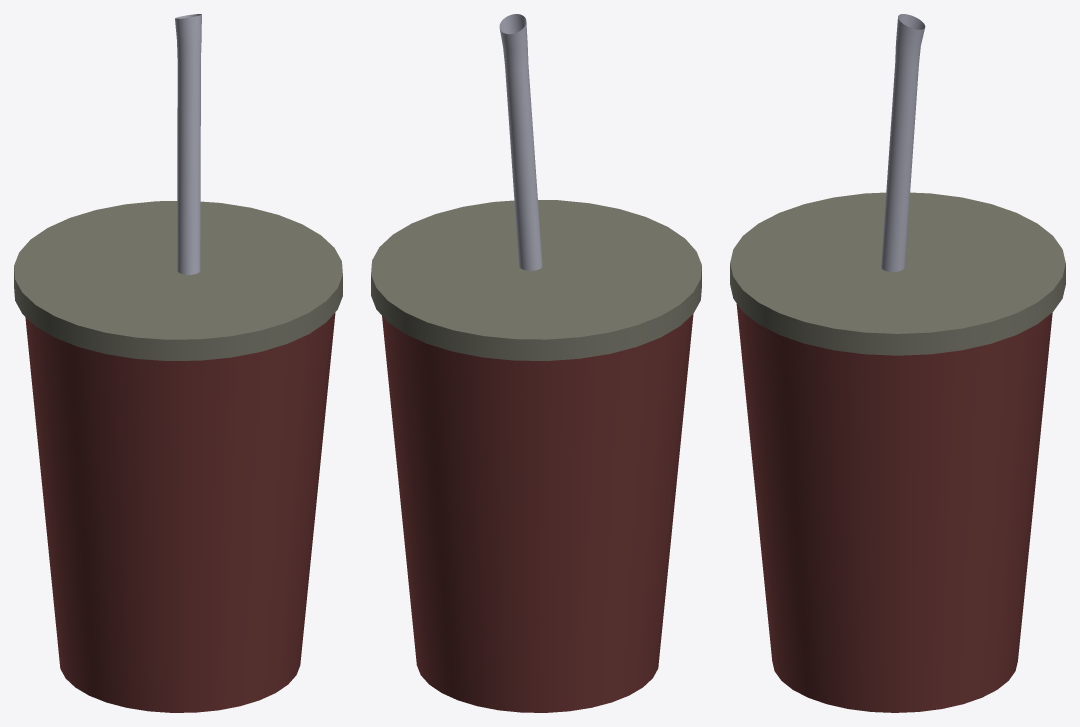
File: Smoothie.fbx
3 renders of one model, left to right at view 1: azimuth 30°, elevation 25°; view 2: azimuth 150°, elevation 25°; view 3: azimuth 270°, elevation 25°, orthographic.
Parts seen in each view (by area): view 1: Cylinder.003; view 2: Cylinder.003; view 3: Cylinder.003.
Part boxes in pixels (bbox=[...]): Cylinder.003: bbox=[14, 14, 342, 712]; Cylinder.003: bbox=[371, 14, 701, 712]; Cylinder.003: bbox=[730, 14, 1065, 712].
Size of the model in its own units: 16.89 by 36.22 by 16.89.
